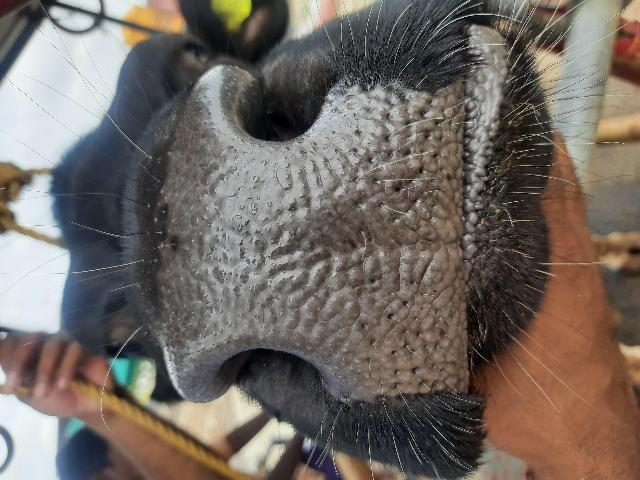Muzzle: (176, 81, 464, 391)
